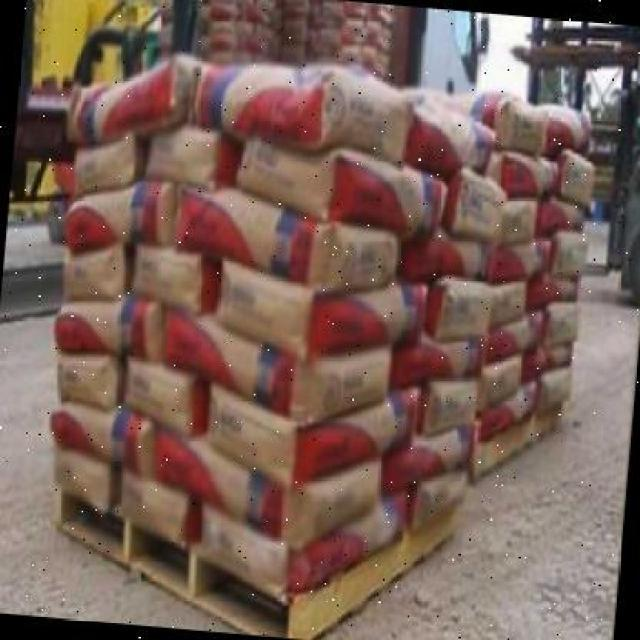gunny_bag: (172, 181, 325, 289), (152, 424, 290, 541), (163, 302, 299, 417), (207, 372, 297, 490), (198, 69, 331, 148), (70, 62, 187, 147), (199, 508, 292, 602), (213, 265, 310, 353), (62, 178, 171, 254), (234, 139, 338, 218), (49, 402, 151, 482), (54, 298, 159, 368), (120, 465, 200, 553), (385, 419, 476, 493), (125, 353, 196, 431), (143, 125, 221, 192), (128, 248, 201, 315), (421, 107, 490, 171), (53, 445, 115, 515), (411, 464, 470, 536), (478, 352, 540, 416), (453, 167, 505, 239), (439, 272, 491, 342), (477, 380, 536, 441), (61, 244, 124, 301), (422, 375, 479, 435), (485, 313, 543, 369), (72, 143, 133, 193), (59, 354, 119, 403), (495, 267, 544, 327), (438, 236, 497, 283), (555, 151, 596, 213), (500, 196, 550, 246), (424, 344, 485, 384), (504, 97, 545, 153), (542, 108, 589, 153), (504, 157, 554, 198), (495, 240, 545, 281), (538, 360, 573, 418), (538, 331, 578, 380), (548, 227, 585, 279), (543, 303, 583, 343), (551, 197, 588, 239), (542, 269, 582, 306)
